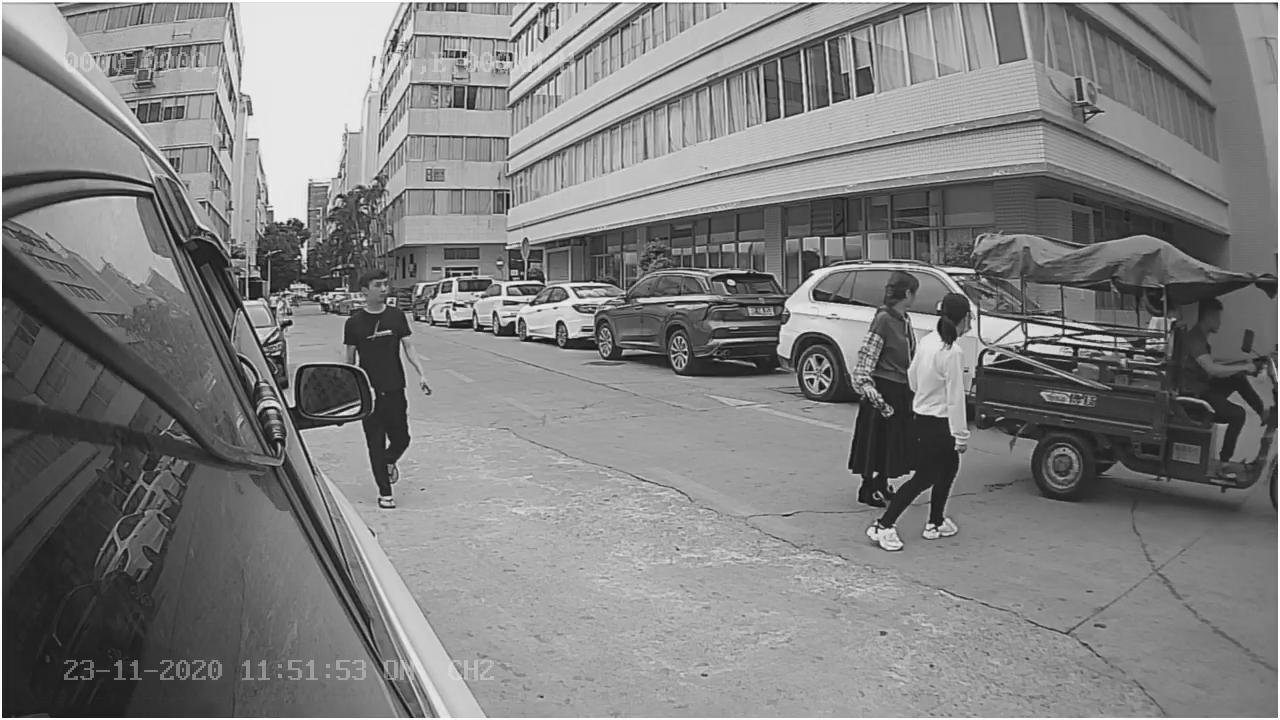person: (867, 292, 985, 550), (1179, 298, 1266, 379)
